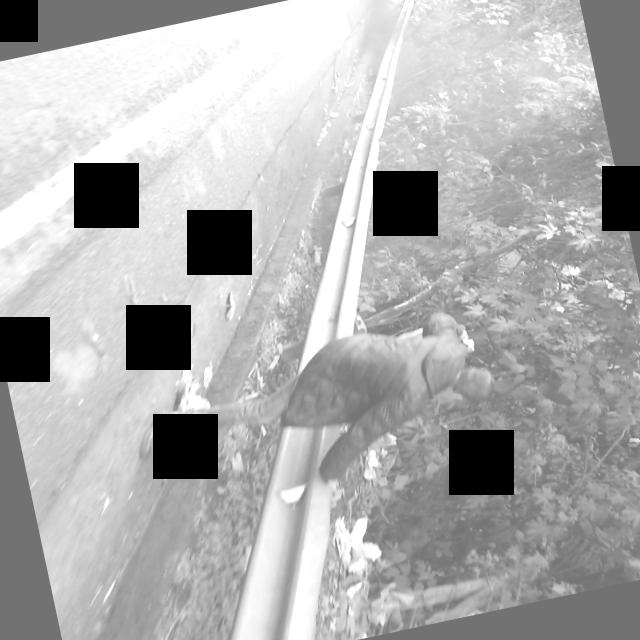DITCH: (0, 0, 614, 640), (0, 0, 551, 640)
